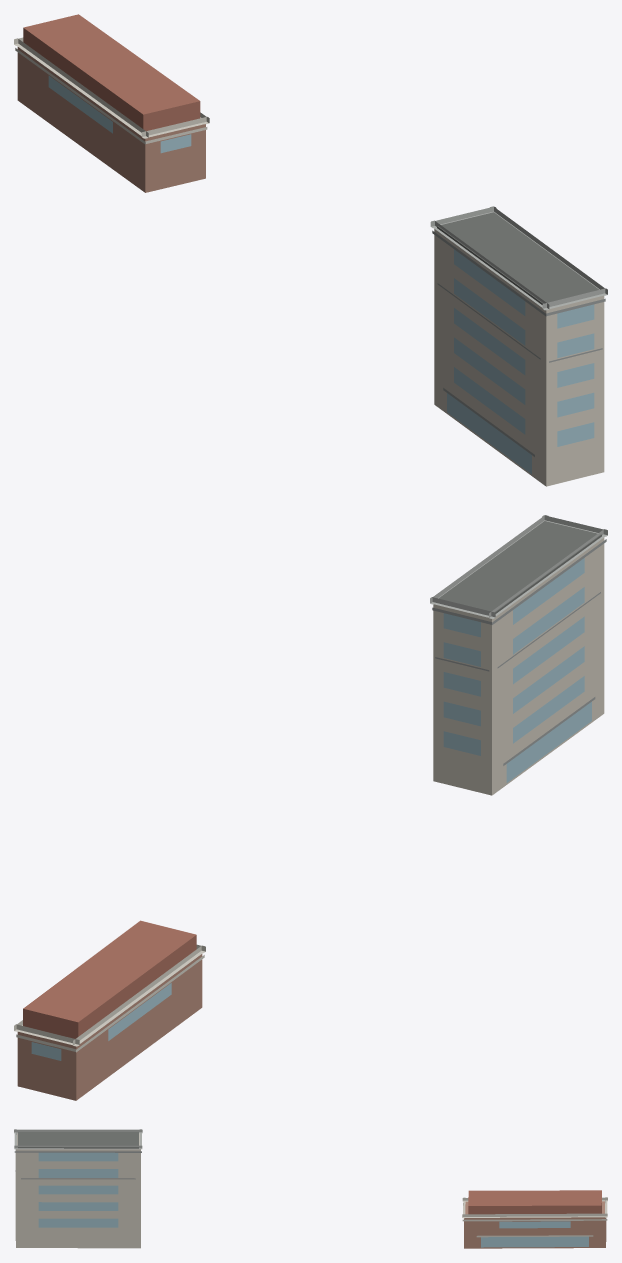
The picture shows the model from 3 angles, top to bottom: view 1: azimuth 30°, elevation 25°; view 2: azimuth 150°, elevation 25°; view 3: azimuth 270°, elevation 25°; orthographic projection. The views are drawn at different scales.
Parts seen in each view (by area): view 1: building-0020-mesh-0, building-0020-mesh-1, building-0024-mesh-8, building-0024-mesh-5, building-0020-mesh-3, building-0020-mesh-4, building-0024-mesh-9, building-0020-mesh-2, building-0024-mesh-6, building-0024-mesh-7; view 2: building-0020-mesh-0, building-0020-mesh-1, building-0024-mesh-8, building-0024-mesh-5, building-0020-mesh-3, building-0020-mesh-4, building-0024-mesh-9, building-0020-mesh-2, building-0024-mesh-6; view 3: building-0020-mesh-0, building-0020-mesh-1, building-0024-mesh-8, building-0024-mesh-5, building-0020-mesh-3, building-0024-mesh-6, building-0020-mesh-4, building-0024-mesh-9, building-0024-mesh-7, building-0020-mesh-2.
Boxes of the visible parts, x1=… form: building-0020-mesh-0: x1=434, y1=229, x2=604, y2=486; building-0020-mesh-1: x1=447, y1=249, x2=594, y2=474; building-0024-mesh-8: x1=23, y1=14, x2=200, y2=131; building-0024-mesh-5: x1=17, y1=47, x2=205, y2=192; building-0020-mesh-3: x1=437, y1=212, x2=599, y2=304; building-0020-mesh-4: x1=430, y1=206, x2=607, y2=310; building-0024-mesh-9: x1=14, y1=37, x2=209, y2=138; building-0020-mesh-2: x1=432, y1=230, x2=605, y2=456; building-0024-mesh-6: x1=48, y1=75, x2=191, y2=153; building-0024-mesh-7: x1=15, y1=48, x2=207, y2=144; building-0020-mesh-0: x1=433, y1=537, x2=604, y2=795; building-0020-mesh-1: x1=443, y1=558, x2=591, y2=782; building-0024-mesh-8: x1=23, y1=920, x2=196, y2=1038; building-0024-mesh-5: x1=17, y1=954, x2=202, y2=1100; building-0020-mesh-3: x1=438, y1=521, x2=601, y2=613; building-0020-mesh-4: x1=430, y1=515, x2=607, y2=618; building-0024-mesh-9: x1=14, y1=944, x2=205, y2=1046; building-0020-mesh-2: x1=432, y1=539, x2=606, y2=765; building-0024-mesh-6: x1=31, y1=983, x2=171, y2=1060; building-0020-mesh-0: x1=15, y1=1133, x2=140, y2=1248; building-0020-mesh-1: x1=38, y1=1152, x2=118, y2=1227; building-0024-mesh-8: x1=468, y1=1190, x2=601, y2=1214; building-0024-mesh-5: x1=464, y1=1201, x2=606, y2=1248; building-0020-mesh-3: x1=17, y1=1132, x2=138, y2=1148; building-0024-mesh-6: x1=481, y1=1221, x2=588, y2=1247; building-0020-mesh-4: x1=14, y1=1129, x2=142, y2=1149; building-0024-mesh-9: x1=462, y1=1197, x2=607, y2=1218; building-0024-mesh-7: x1=462, y1=1219, x2=607, y2=1237; building-0020-mesh-2: x1=14, y1=1151, x2=141, y2=1179.
Size of the model in its own units: 7.85 by 20.65 by 109.
